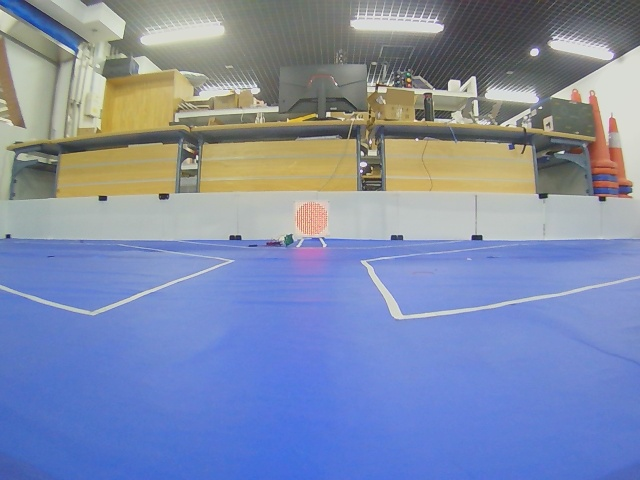red: (294, 201, 329, 237)
